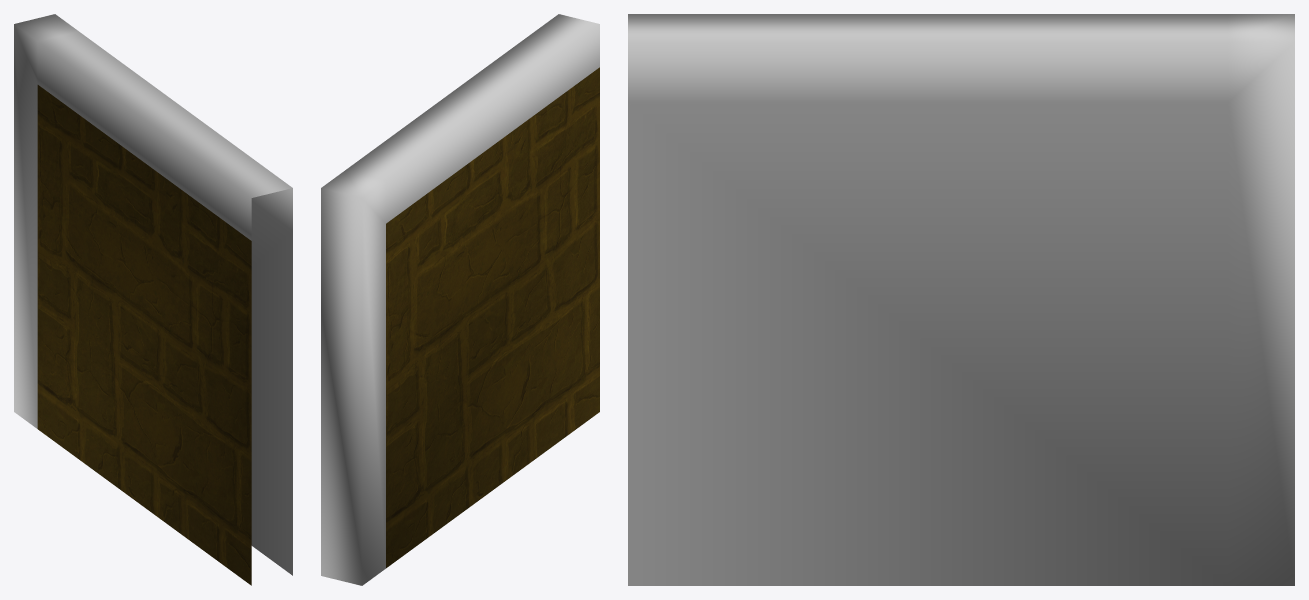
Rendered from WallDoubleJoin.fbx.
The picture shows the model from 3 angles, left to right: view 1: azimuth 30°, elevation 25°; view 2: azimuth 150°, elevation 25°; view 3: azimuth 270°, elevation 25°; orthographic projection. The views are drawn at different scales.
Visible parts, largest first — view 1: WallDoubleJoin; view 2: WallDoubleJoin; view 3: WallDoubleJoin.
Boxes of the visible parts, x1,y1,x2,y2 form: WallDoubleJoin: (14,14,292,585); WallDoubleJoin: (321,14,599,585); WallDoubleJoin: (628,14,1294,585).
Bounding box in the file's own units: 1 × 9 × 10.
